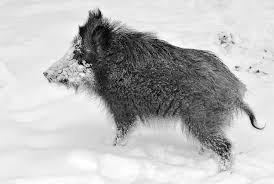wildboar: (39, 5, 268, 177)
